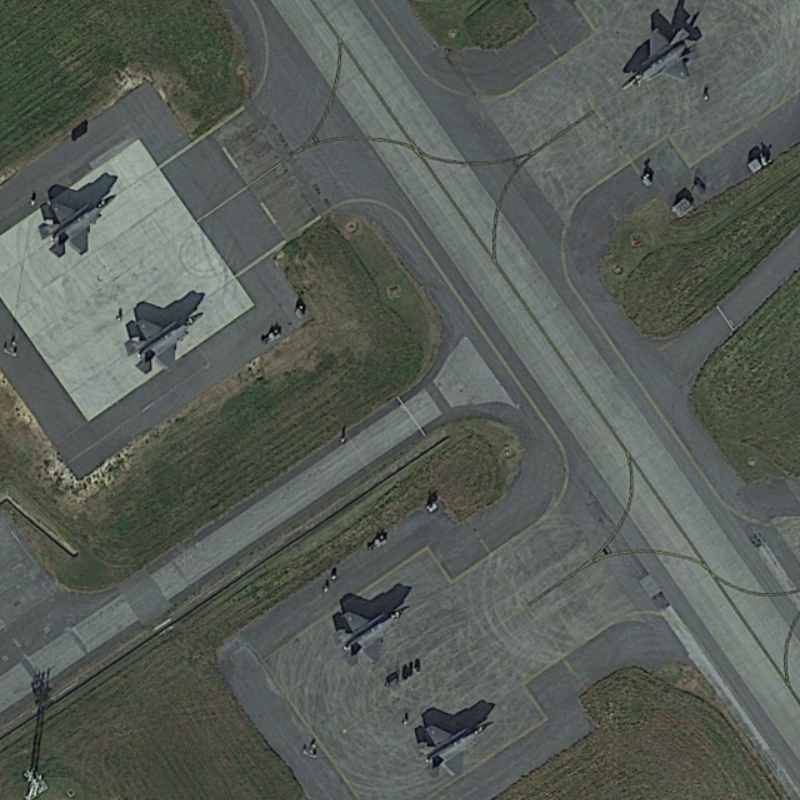A15: (34, 187, 123, 269), (614, 16, 706, 95), (327, 595, 418, 667), (117, 305, 206, 378), (409, 714, 500, 784)
